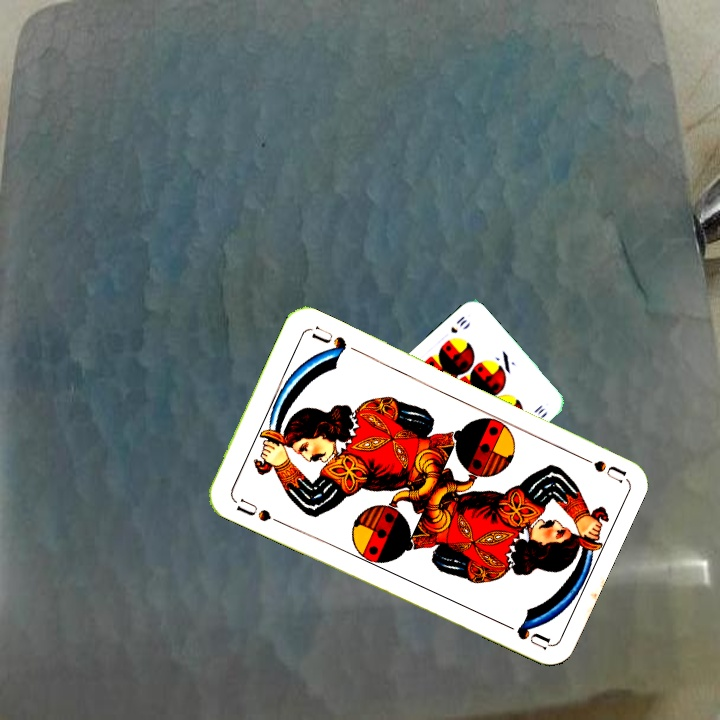S10: (446, 312, 470, 336)
SU: (570, 449, 627, 485), (229, 494, 285, 527)
